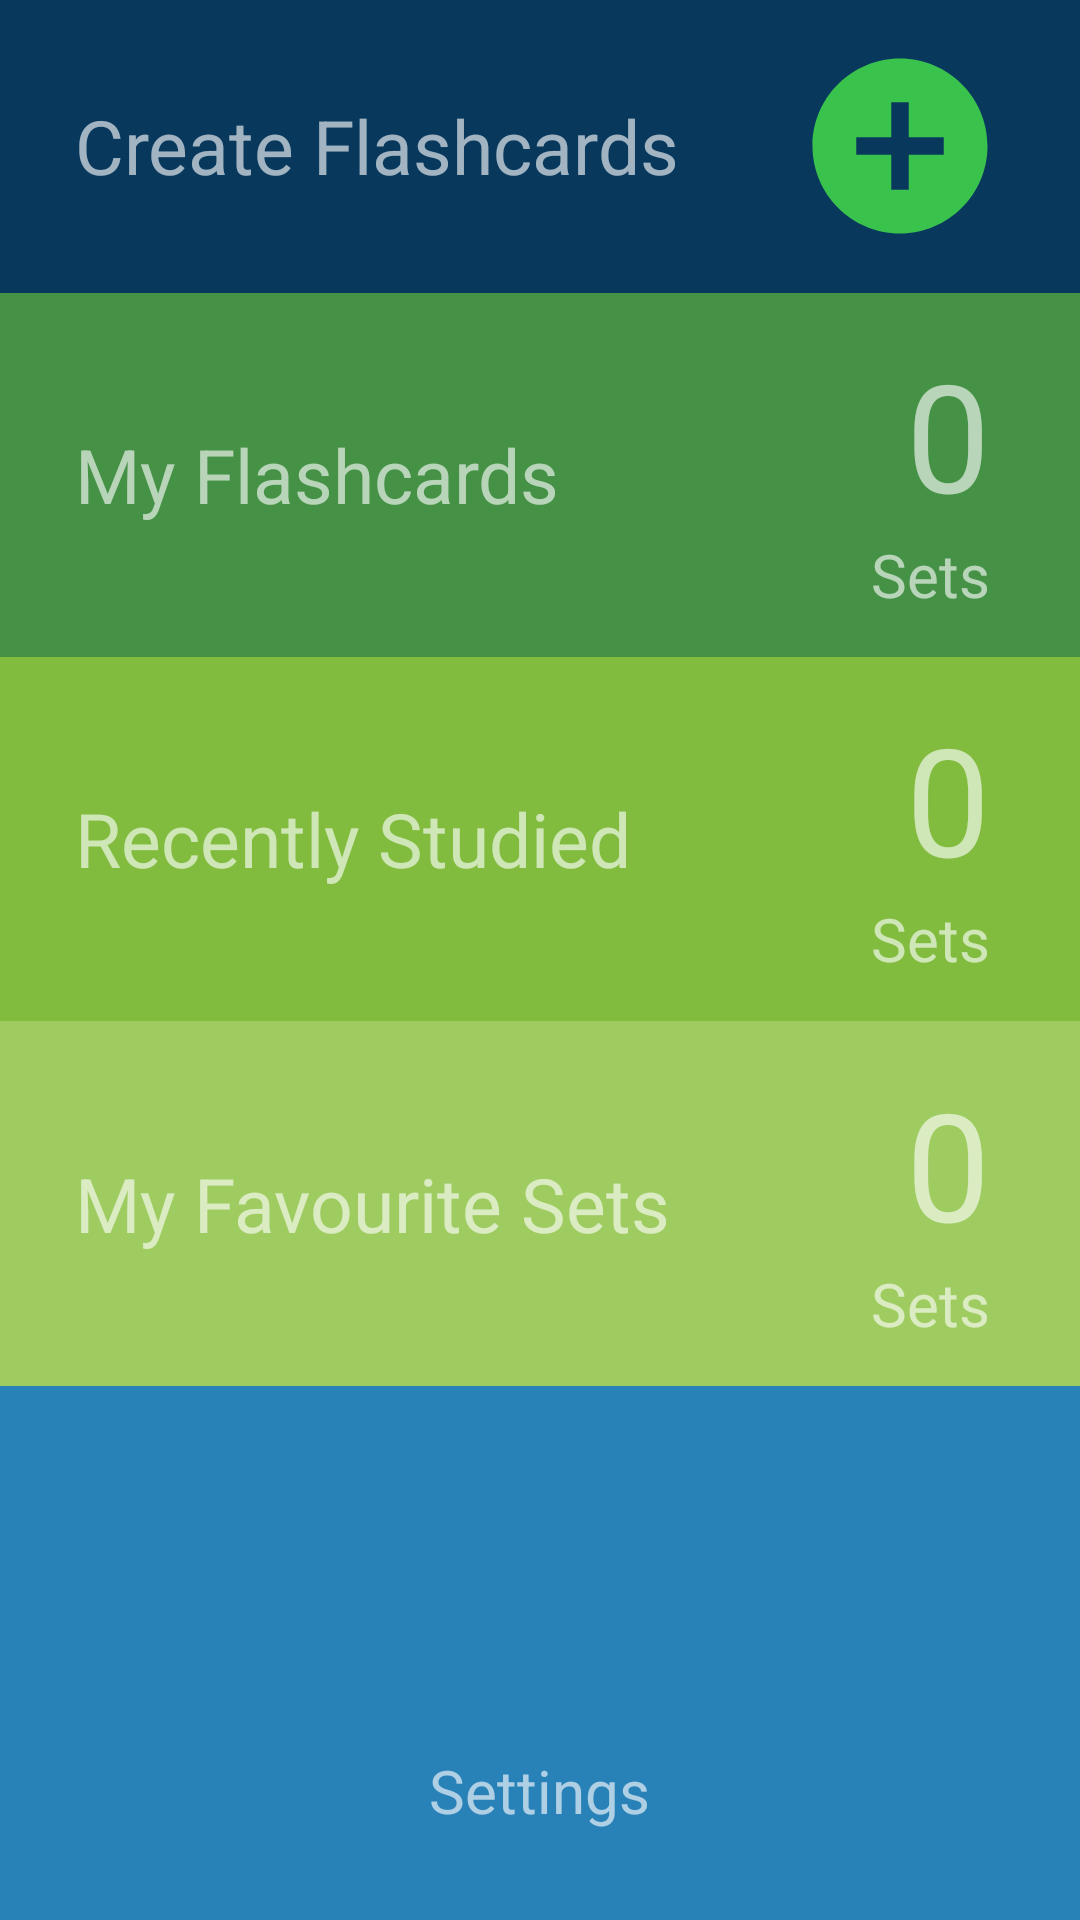

Screen size 1080px x 1920px. Icon name, then its center in pixels as point (x, y):
add: point (900, 146)
